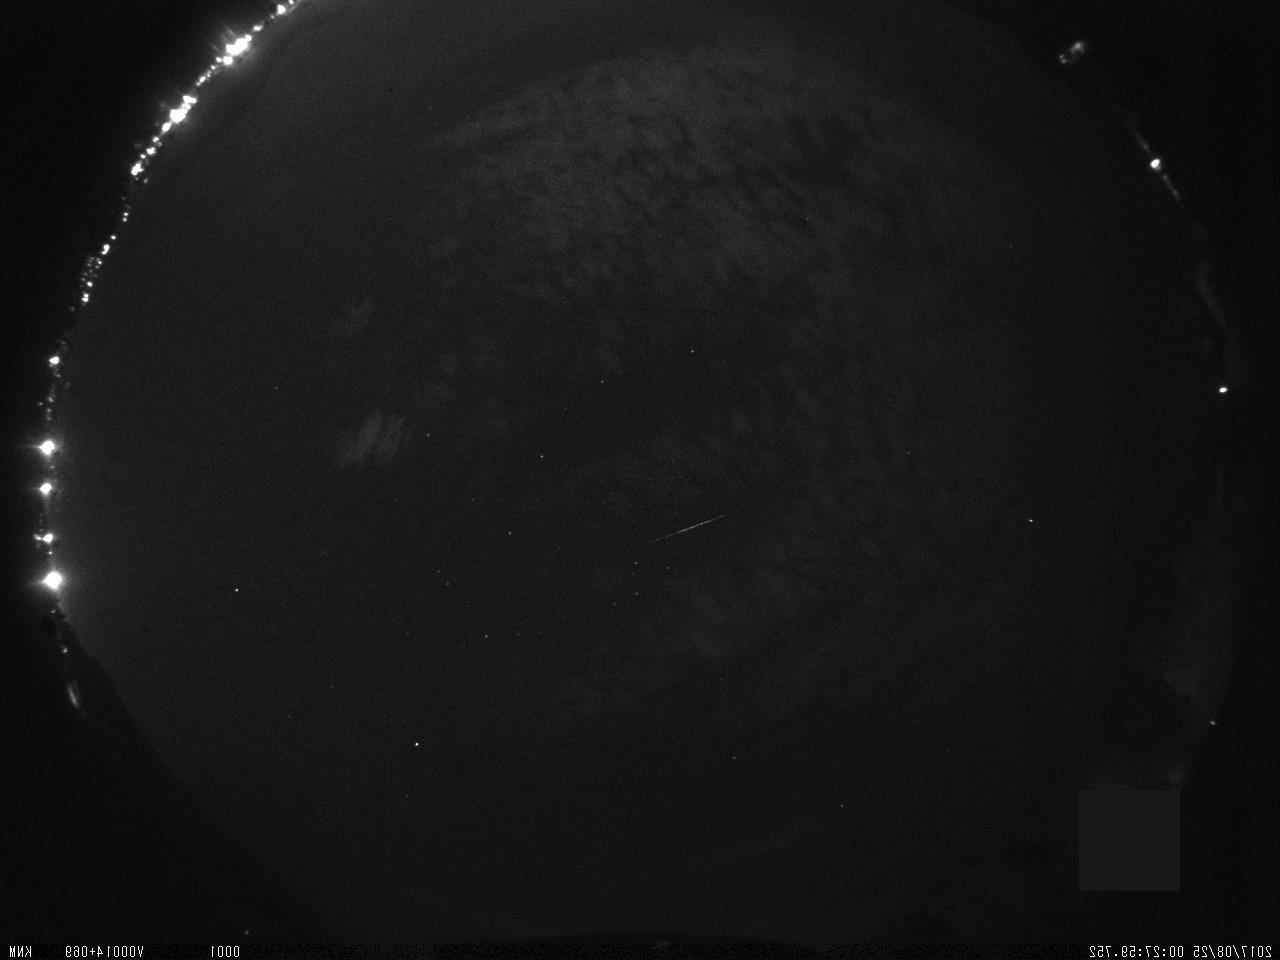meteor: (638, 505, 739, 551)
